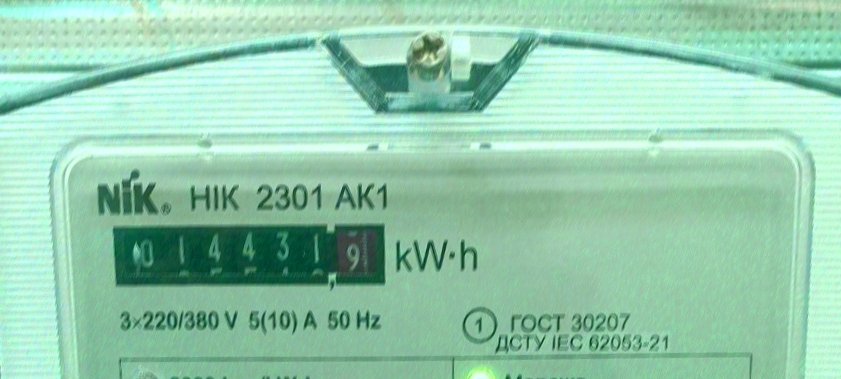0: (137, 235, 158, 269)
1: (173, 231, 192, 265), (310, 231, 324, 263)
3: (273, 229, 293, 262)
4: (204, 229, 226, 263), (239, 227, 258, 262)
9: (344, 240, 362, 271)
screen: (103, 207, 401, 303)
